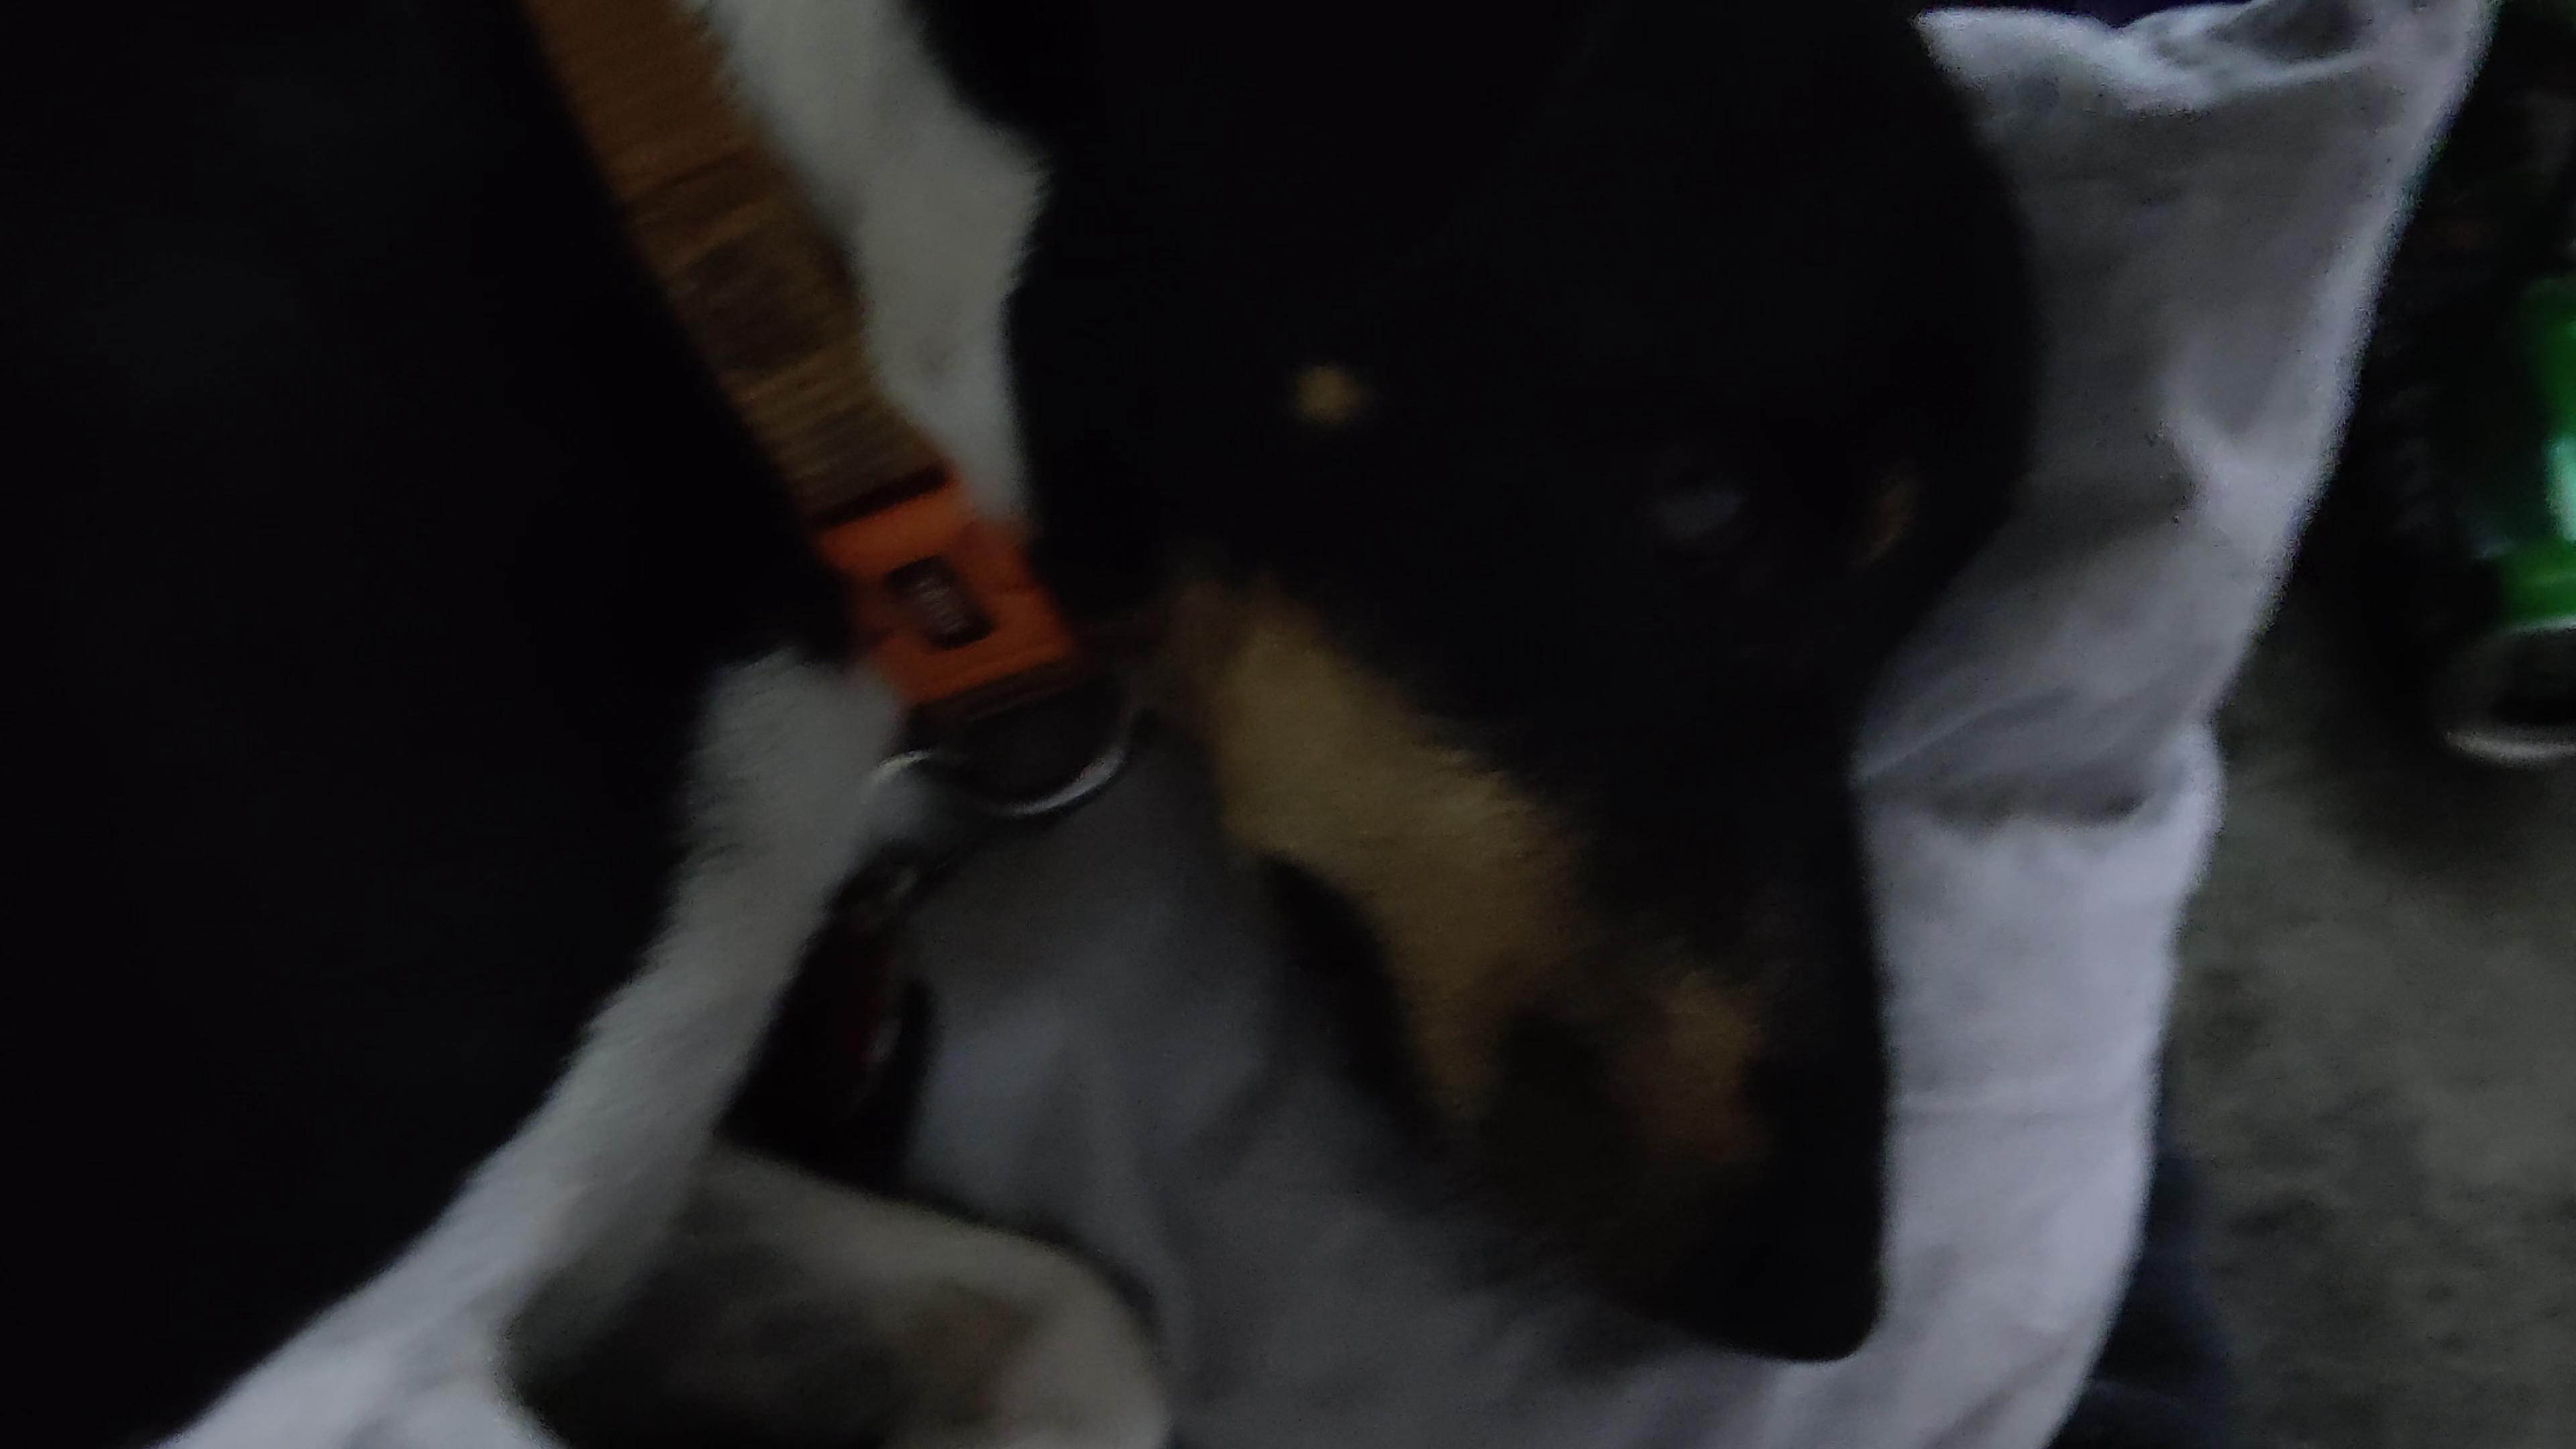Dog: (0, 0, 2070, 1449)
